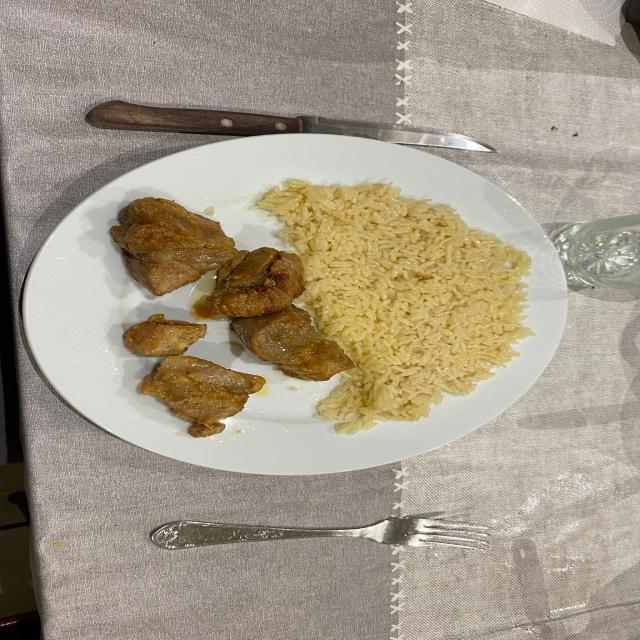plate: (22, 134, 566, 475)
pork: (111, 197, 353, 381), (124, 315, 264, 437)
rice: (257, 180, 532, 434)
